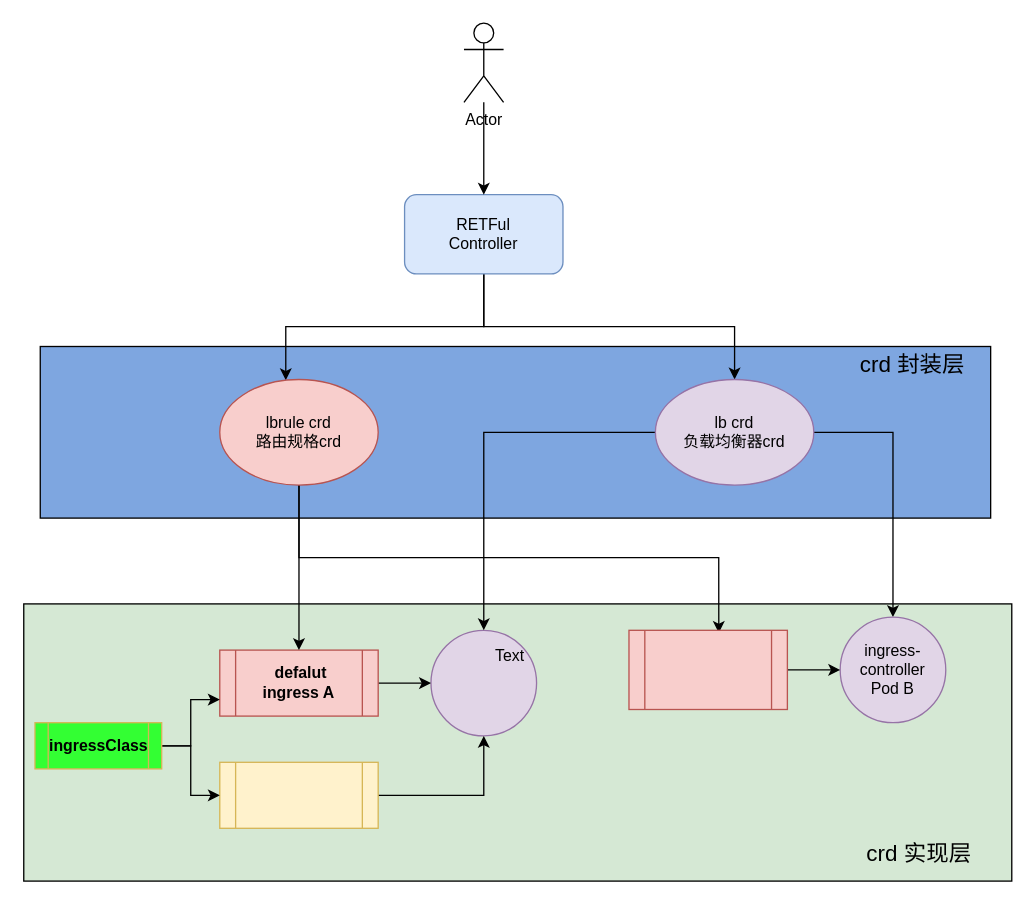
This 1035x904 diagram has some shape labels left out. Each missing label, with the box of its shape:
defalut ingress B: (628, 629, 787, 710)
ingress-controller Pod A: (430, 629, 537, 736)
灰度ingress: (218, 761, 378, 828)
